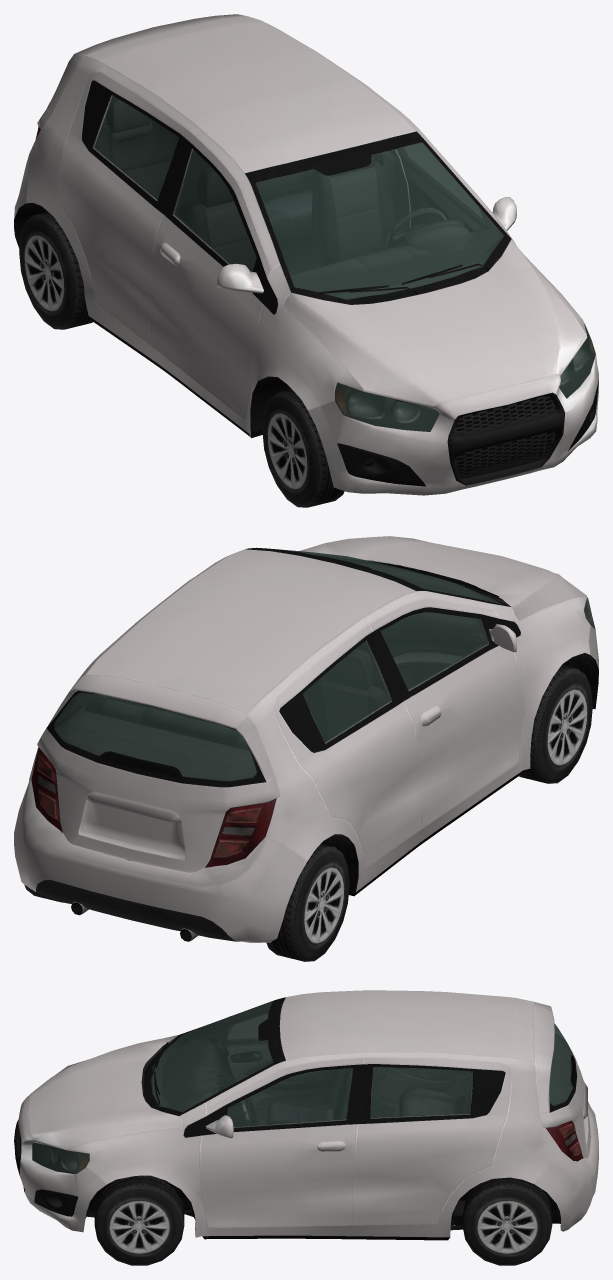
Rendered from traffic_hatch_city.glb.
3 views of the same model, one above another, from view 1: azimuth 30°, elevation 25°; view 2: azimuth 150°, elevation 25°; view 3: azimuth 270°, elevation 25° (orthographic). The views are drawn at different scales.
Visible parts, largest first — view 1: body, wheel_fr_mesh, wheel_rr_mesh; view 2: body, wheel_rr_mesh, wheel_fr_mesh; view 3: body, wheel_fl_mesh, wheel_rl_mesh.
Part boxes in pixels (left/top/right/bottom): body: left=14, top=14, right=598, bottom=495; wheel_fr_mesh: left=262, top=389, right=344, bottom=507; wheel_rr_mesh: left=19, top=211, right=92, bottom=329; body: left=14, top=536, right=598, bottom=942; wheel_rr_mesh: left=266, top=843, right=349, bottom=961; wheel_fr_mesh: left=519, top=665, right=592, bottom=783; body: left=14, top=990, right=598, bottom=1240; wheel_fl_mesh: left=94, top=1175, right=184, bottom=1265; wheel_rl_mesh: left=462, top=1177, right=552, bottom=1265.
Size of the model in its own units: 1.79 by 1.5 by 4.
7 materials, 5 textured.
